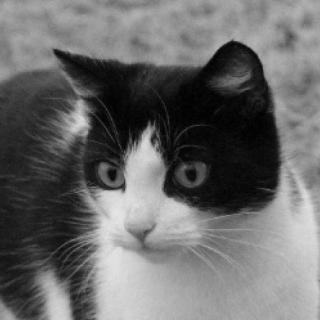cat: (50, 37, 286, 266)
nose: (119, 196, 168, 245)
